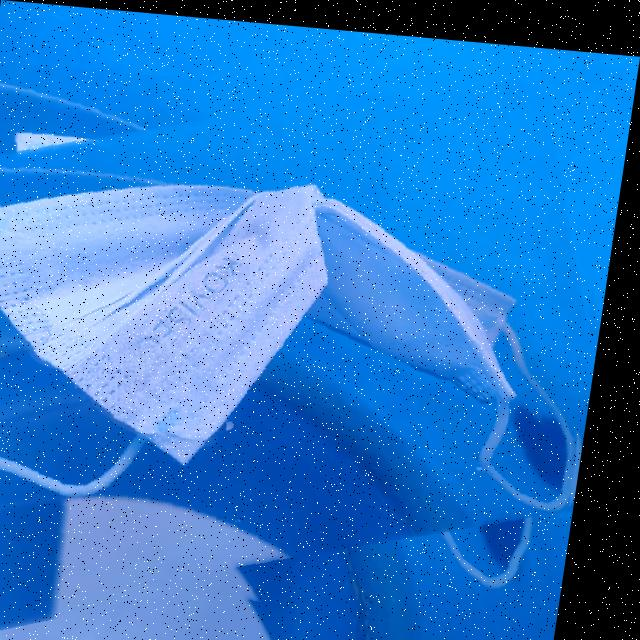mask: (0, 61, 633, 629)
